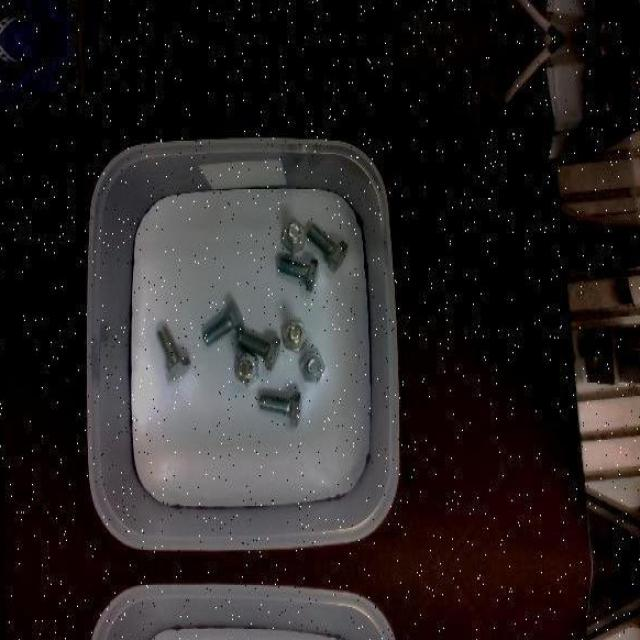screw: (306, 224, 348, 273), (202, 299, 245, 346), (156, 326, 190, 381), (238, 331, 280, 371), (258, 389, 302, 426), (278, 258, 319, 292), (300, 351, 327, 383), (281, 318, 307, 351), (236, 351, 260, 386), (282, 219, 306, 254)
